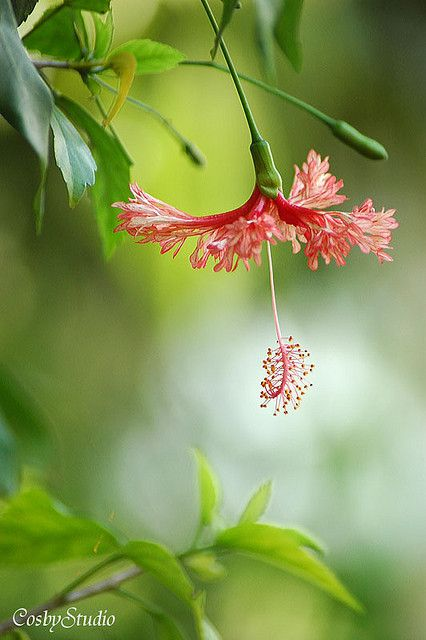Hibiscus: (109, 149, 397, 417), (315, 104, 397, 166)
